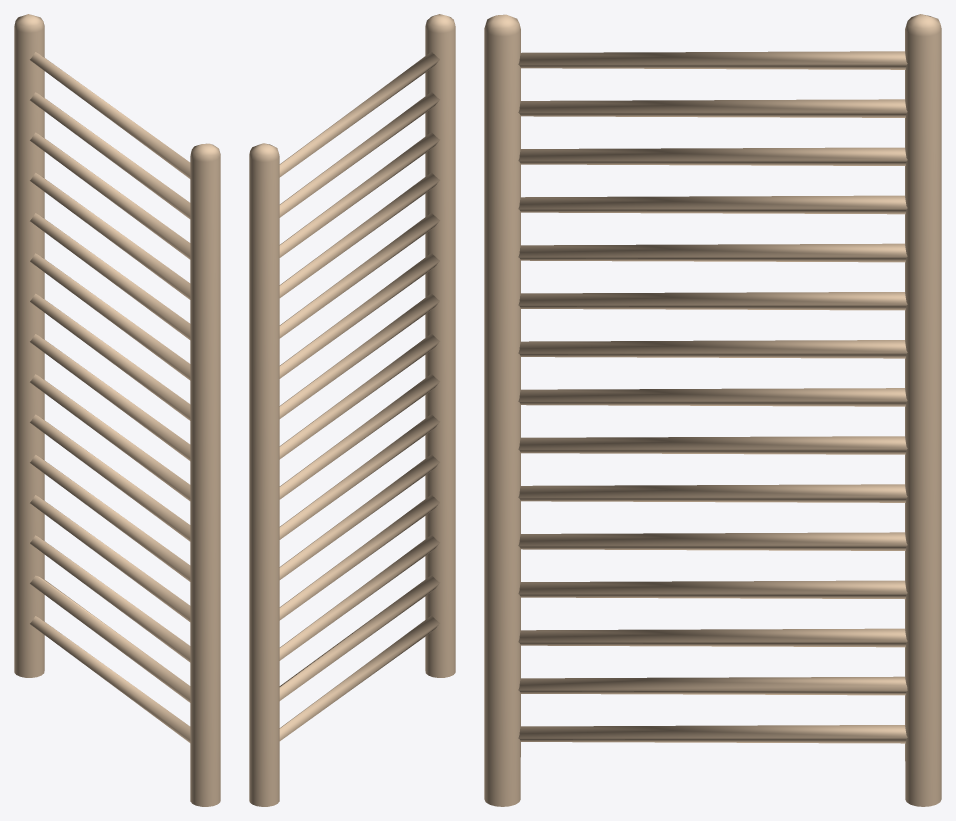
The model's file is Ladder 347pfbx.fbx.
3 renders of one model, left to right at view 1: azimuth 30°, elevation 25°; view 2: azimuth 150°, elevation 25°; view 3: azimuth 270°, elevation 25°, orthographic. The views are drawn at different scales.
Visible parts, largest first — view 1: ladder; view 2: ladder; view 3: ladder.
Part boxes in pixels (<box>): ladder: <box>14,14,220,806</box>; ladder: <box>249,14,455,806</box>; ladder: <box>484,14,941,806</box>.
Size of the model in its own units: 11.01 by 260 by 138.
